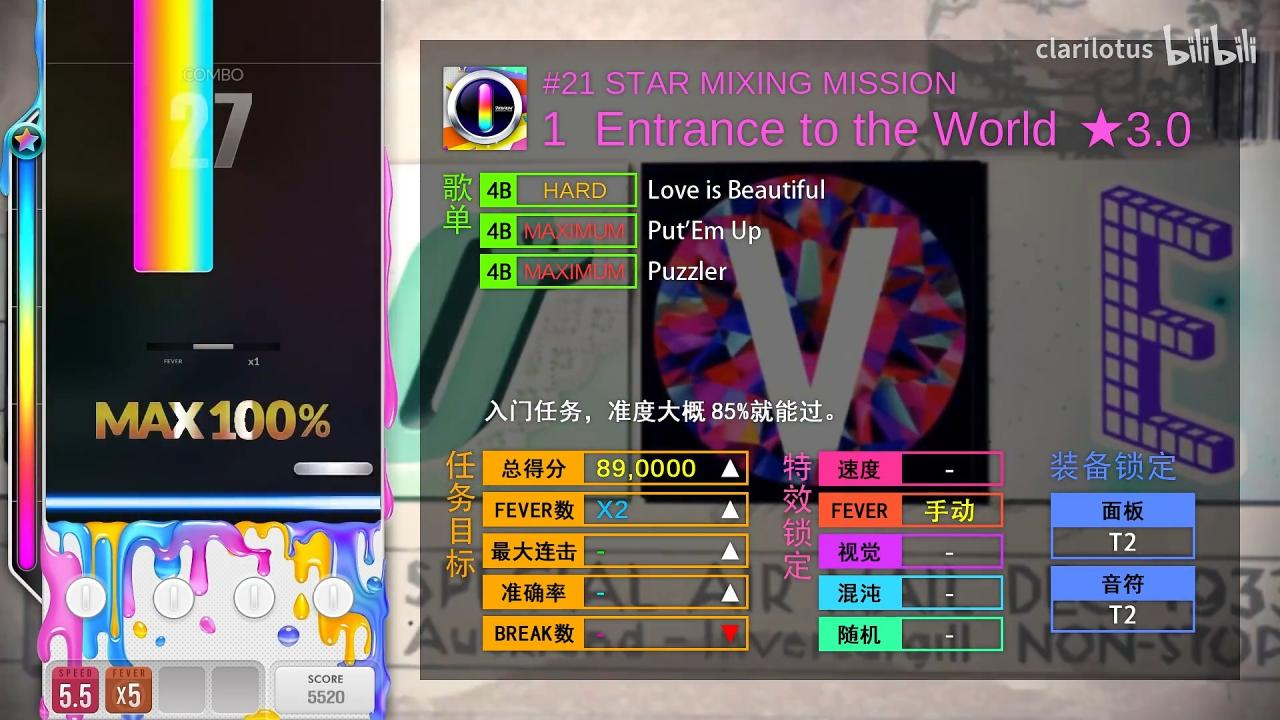hold-start: (134, 257, 214, 272)
note: (294, 461, 373, 477)
